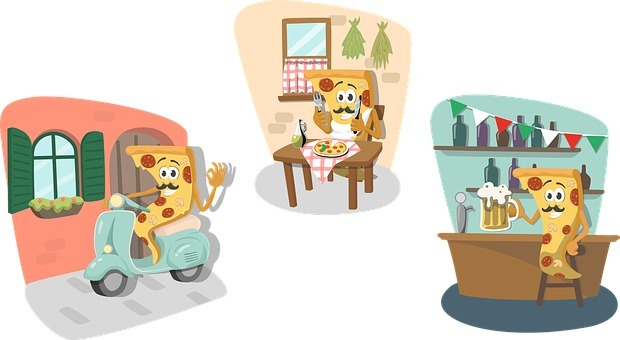diningtable: (267, 117, 390, 221)
motorbike: (71, 186, 212, 304)
pottedplant: (23, 188, 87, 223)
